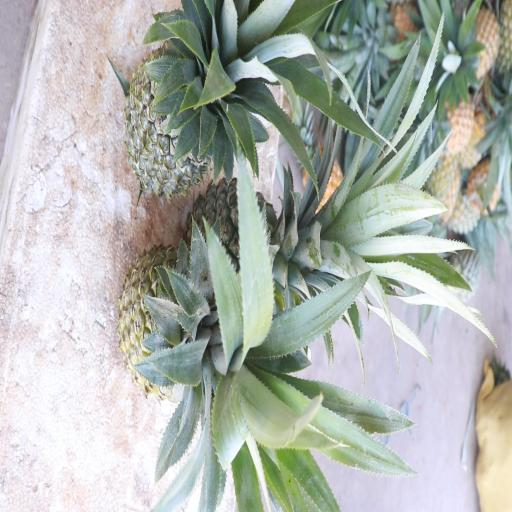------------------------------: (116, 240, 276, 406)
Pineapple - v8 v1: (452, 6, 503, 87), (430, 94, 478, 154)
